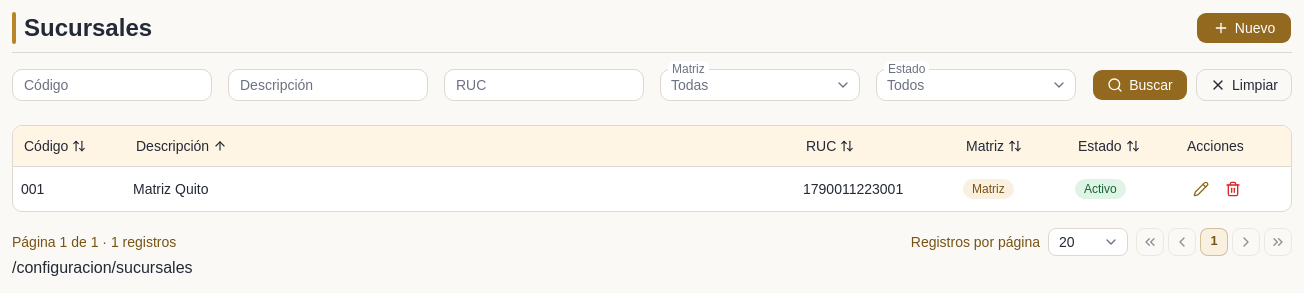
Test: PaginaSucursales › ordena por columna en el servidor y lo refleja en la URL
The image size is (1304, 293).
Click the button "Código".
click(55, 146)  # box [13,132,97,160]
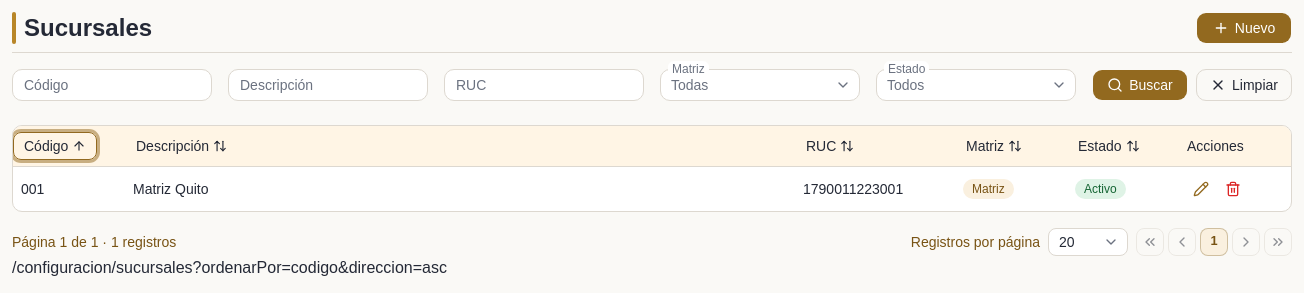
expect the text named "Ubicación" reads "/configuracion/sucursales?ordenarPor=codigo&direccion=asc": met, box [12,258,447,276]
